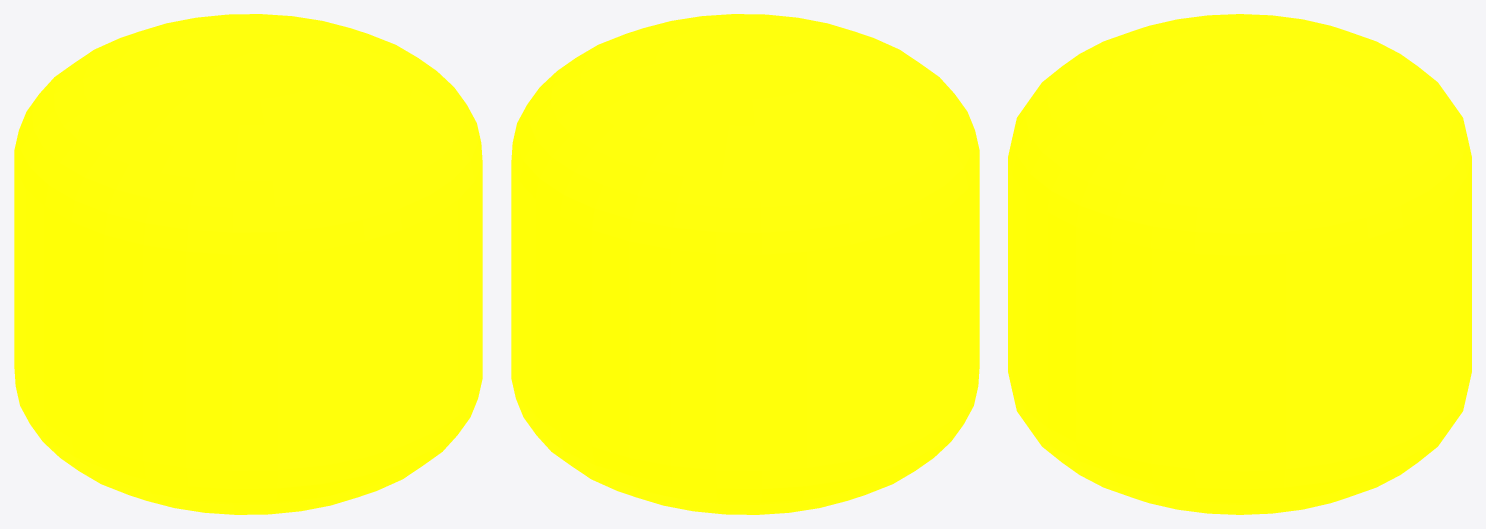
File: crude_capsule.gltf
The picture shows the model from 3 angles, left to right: view 1: azimuth 30°, elevation 25°; view 2: azimuth 150°, elevation 25°; view 3: azimuth 270°, elevation 25°; orthographic projection.
Visible parts, largest first — view 1: Sphere; view 2: Sphere; view 3: Sphere.
Part boxes in pixels (left/top/right/bottom): Sphere: left=14, top=14, right=482, bottom=514; Sphere: left=511, top=14, right=979, bottom=514; Sphere: left=1008, top=14, right=1471, bottom=514.
Size of the model in its own units: 1.98 by 1.96 by 1.95.
